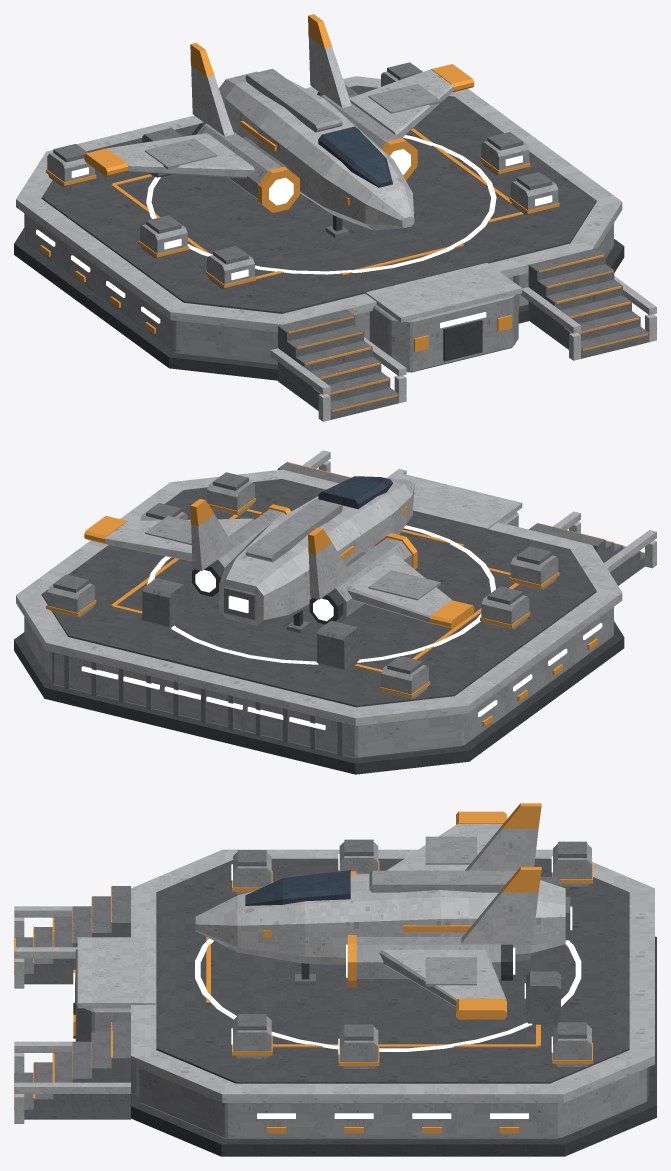
Rendered from hub_lod0.glb.
3 views of the same model, one above another, from view 1: azimuth 30°, elevation 25°; view 2: azimuth 150°, elevation 25°; view 3: azimuth 270°, elevation 25° (orthographic). The views are drawn at different scales.
Parts seen in each view (by area): view 1: hub_base_body, hub_shuttle_body, hub_base_trim, hub_shuttle_trim, hub_base_glow, hub_shuttle_glow; view 2: hub_base_body, hub_shuttle_body, hub_base_glow, hub_shuttle_trim, hub_base_trim, hub_shuttle_glow; view 3: hub_base_body, hub_shuttle_body, hub_shuttle_trim, hub_base_trim, hub_base_glow.
Boxes of the visible parts, x1,y1,x2,y2 form: hub_base_body: [14, 62, 656, 421]; hub_shuttle_body: [107, 37, 452, 237]; hub_base_trim: [40, 128, 647, 411]; hub_shuttle_trim: [84, 14, 474, 212]; hub_base_glow: [36, 135, 552, 328]; hub_shuttle_glow: [269, 149, 410, 205]; hub_base_body: [14, 450, 656, 774]; hub_shuttle_body: [105, 476, 451, 633]; hub_base_glow: [81, 525, 602, 729]; hub_shuttle_trim: [84, 499, 474, 628]; hub_base_trim: [46, 462, 644, 726]; hub_shuttle_glow: [195, 570, 333, 621]; hub_base_body: [14, 839, 656, 1156]; hub_shuttle_body: [195, 824, 570, 1006]; hub_shuttle_trim: [263, 803, 541, 1019]; hub_base_trim: [14, 860, 592, 1133]; hub_base_glow: [73, 854, 581, 1118].
Bounding box in the file's own units: 6 × 2.24 × 6.62.
3 materials, 1 textured.
